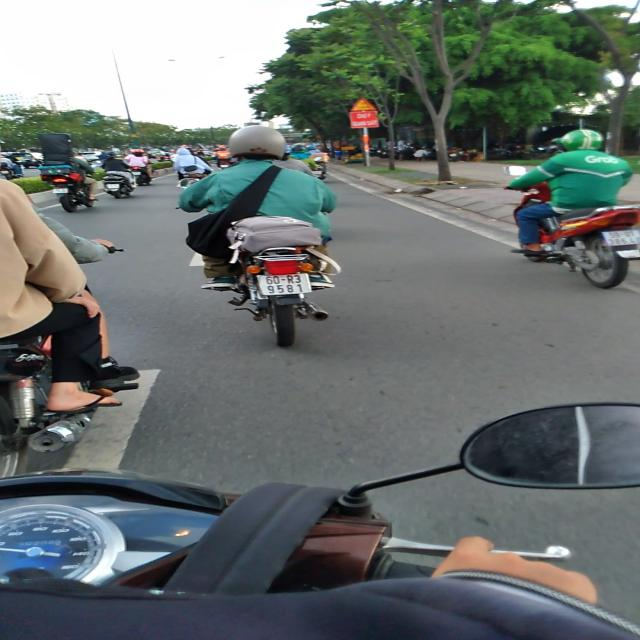Nguy hiem: (349, 97, 377, 112)
